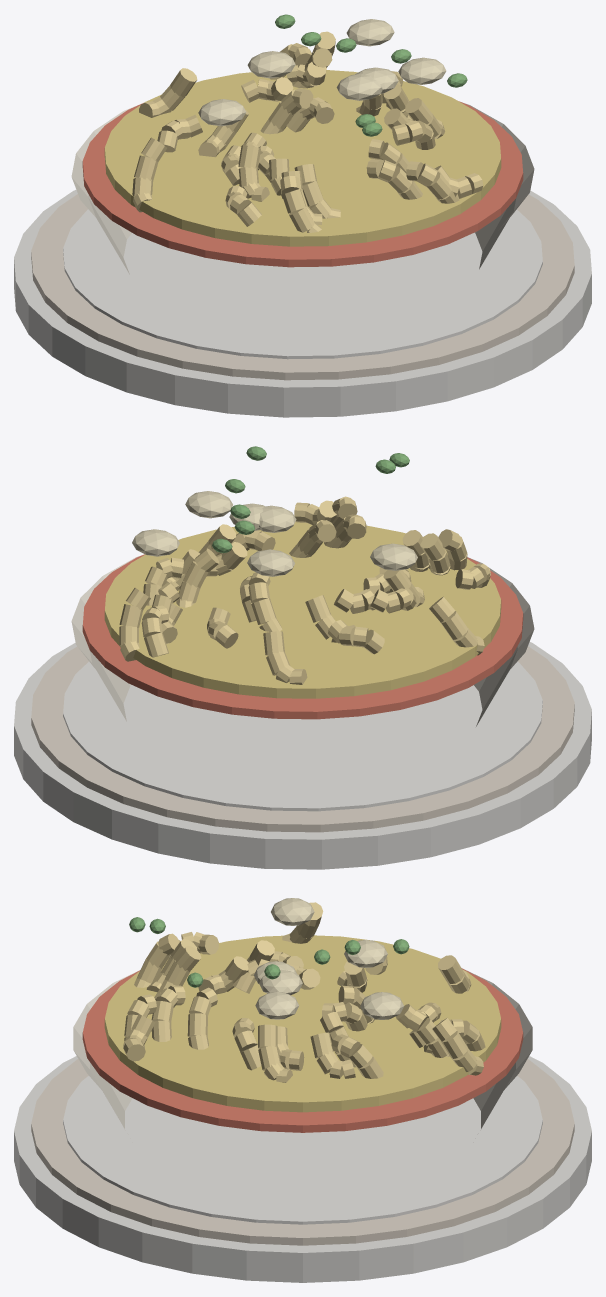
File: mi_y_phomai.glb
The picture shows the model from 3 angles, top to bottom: view 1: azimuth 30°, elevation 25°; view 2: azimuth 150°, elevation 25°; view 3: azimuth 270°, elevation 25°; orthographic projection.
Parts seen in each view (by area): view 1: obj_0002, obj_0005, obj_0000, obj_0001, obj_0004, obj_0003, obj_0130, obj_0129, obj_0128, obj_0126, obj_0131, obj_0127 (+1 smaller); view 2: obj_0002, obj_0005, obj_0000, obj_0001, obj_0004, obj_0003, obj_0129, obj_0130, obj_0126, obj_0128, obj_0131; view 3: obj_0002, obj_0005, obj_0000, obj_0001, obj_0004, obj_0003, obj_0128, obj_0126, obj_0129, obj_0130, obj_0127, obj_0121.
Boxes of the visible parts, bbox=[...] form: obj_0002: bbox=[63, 209, 542, 359]; obj_0005: bbox=[104, 70, 501, 246]; obj_0000: bbox=[14, 190, 591, 417]; obj_0001: bbox=[31, 194, 574, 380]; obj_0004: bbox=[82, 101, 523, 267]; obj_0003: bbox=[71, 102, 534, 274]; obj_0130: bbox=[247, 51, 295, 78]; obj_0129: bbox=[198, 99, 246, 126]; obj_0128: bbox=[398, 57, 446, 84]; obj_0126: bbox=[346, 19, 394, 46]; obj_0131: bbox=[336, 73, 382, 100]; obj_0127: bbox=[355, 67, 398, 93]; obj_0002: bbox=[63, 661, 542, 811]; obj_0005: bbox=[104, 521, 501, 698]; obj_0000: bbox=[14, 642, 591, 869]; obj_0001: bbox=[31, 646, 574, 832]; obj_0004: bbox=[82, 554, 523, 719]; obj_0003: bbox=[71, 555, 534, 726]; obj_0129: bbox=[370, 543, 417, 570]; obj_0130: bbox=[247, 549, 294, 576]; obj_0126: bbox=[132, 529, 179, 556]; obj_0128: bbox=[185, 491, 232, 518]; obj_0131: bbox=[259, 505, 296, 532]; obj_0002: bbox=[63, 1076, 542, 1224]; obj_0005: bbox=[104, 935, 501, 1112]; obj_0000: bbox=[14, 1056, 591, 1282]; obj_0001: bbox=[31, 1059, 574, 1245]; obj_0004: bbox=[82, 968, 523, 1132]; obj_0003: bbox=[73, 970, 532, 1128]; obj_0128: bbox=[255, 991, 299, 1019]; obj_0126: bbox=[360, 992, 403, 1019]; obj_0129: bbox=[271, 898, 314, 925]; obj_0130: bbox=[344, 940, 387, 967]; obj_0127: bbox=[259, 969, 302, 995]; obj_0121: bbox=[438, 955, 463, 983].
Size of the model in its own units: 2.1 by 0.945 by 2.1.
